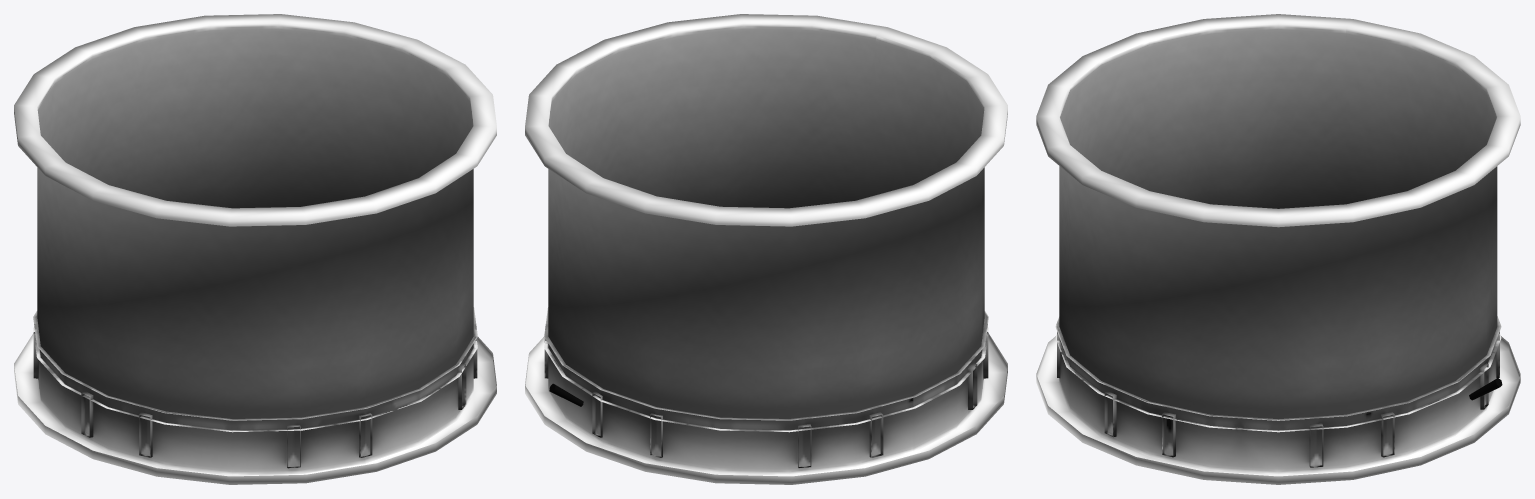
Rendered from f_wheel.obj.
3 renders of one model, left to right at view 1: azimuth 30°, elevation 25°; view 2: azimuth 150°, elevation 25°; view 3: azimuth 270°, elevation 25°, orthographic.
Visible parts, largest first — view 1: DOT_slick_Wheel; view 2: DOT_slick_Wheel; view 3: DOT_slick_Wheel.
Boxes of the visible parts, x1=… form: DOT_slick_Wheel: x1=14, y1=14, x2=496, y2=484; DOT_slick_Wheel: x1=525, y1=14, x2=1007, y2=484; DOT_slick_Wheel: x1=1036, y1=14, x2=1520, y2=484.
Bounding box in the file's own units: 0.3562 × 0.2301 × 0.3562.
Materials: 2 (1 with a texture image).
